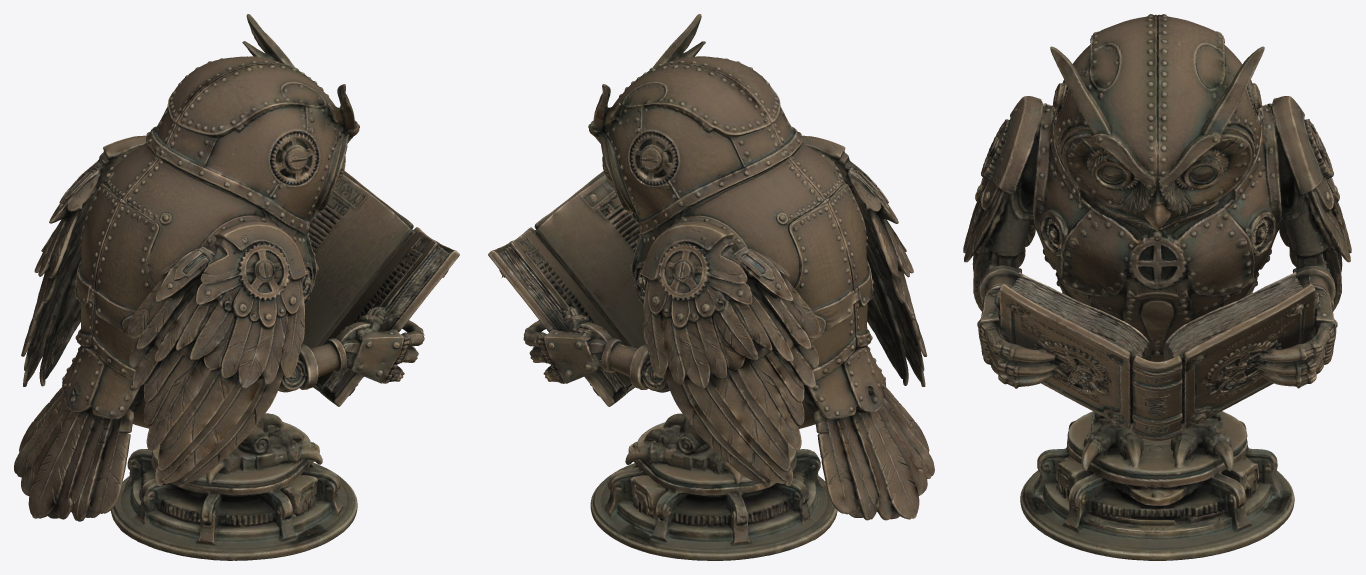
The model's file is owl_draco.glb.
3 views of the same model, side by side, from view 1: azimuth 30°, elevation 25°; view 2: azimuth 150°, elevation 25°; view 3: azimuth 270°, elevation 25° (orthographic). The views are drawn at different scales.
Parts seen in each view (by area): view 1: tripo_node_0cd346b4-9c58-4e79-8597-3d68f919a024; view 2: tripo_node_0cd346b4-9c58-4e79-8597-3d68f919a024; view 3: tripo_node_0cd346b4-9c58-4e79-8597-3d68f919a024.
Boxes of the visible parts, x1,y1,x2,y2 form: tripo_node_0cd346b4-9c58-4e79-8597-3d68f919a024: (14,14,459,560); tripo_node_0cd346b4-9c58-4e79-8597-3d68f919a024: (488,14,934,560); tripo_node_0cd346b4-9c58-4e79-8597-3d68f919a024: (963,14,1351,560).
Bounding box in the file's own units: 30835 × 32767 × 23542.
Materials: 1 (1 with a texture image).
